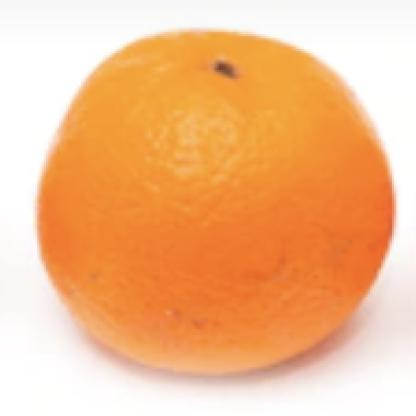fresh: (36, 31, 393, 384)
